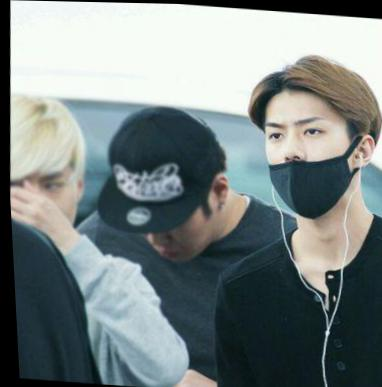NONE: (122, 184, 222, 265), (8, 161, 83, 251)
WRONG: (256, 108, 365, 215)
